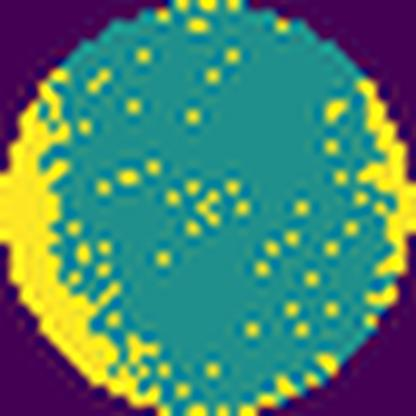Edge-Loc: (0, 83, 167, 410), (345, 76, 416, 285)
